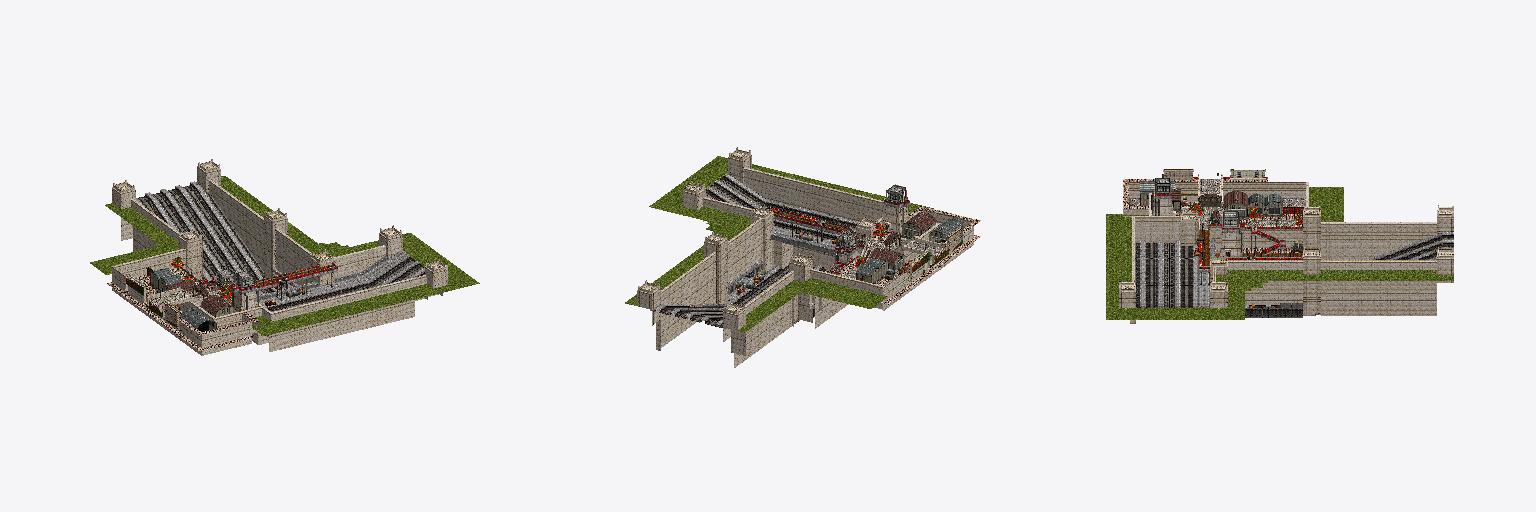
3 renders of one model, left to right at view 1: azimuth 30°, elevation 25°; view 2: azimuth 150°, elevation 25°; view 3: azimuth 270°, elevation 25°, orthographic.
Visible parts, largest first — view 1: Object.005; view 2: Object.005; view 3: Object.005.
Boxes of the visible parts, <box> form: Object.005: <box>90,159,479,355</box>; Object.005: <box>625,147,980,367</box>; Object.005: <box>1106,169,1453,323</box>.
Size of the model in its own units: 109 by 33.84 by 120.
26 materials, 25 textured.